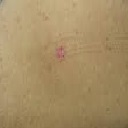Carcinoma: (53, 43, 69, 62)
